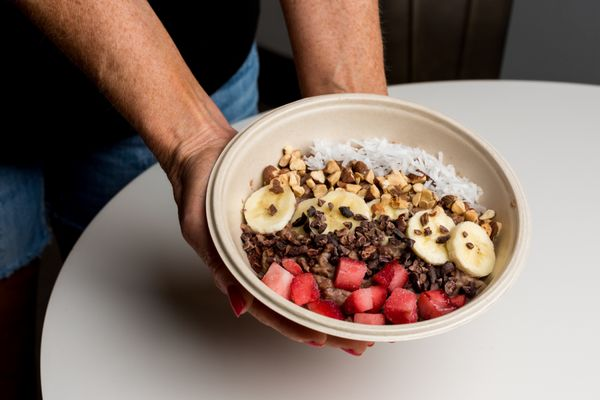pasta: (242, 182, 297, 234)
sushi: (204, 93, 533, 352)
